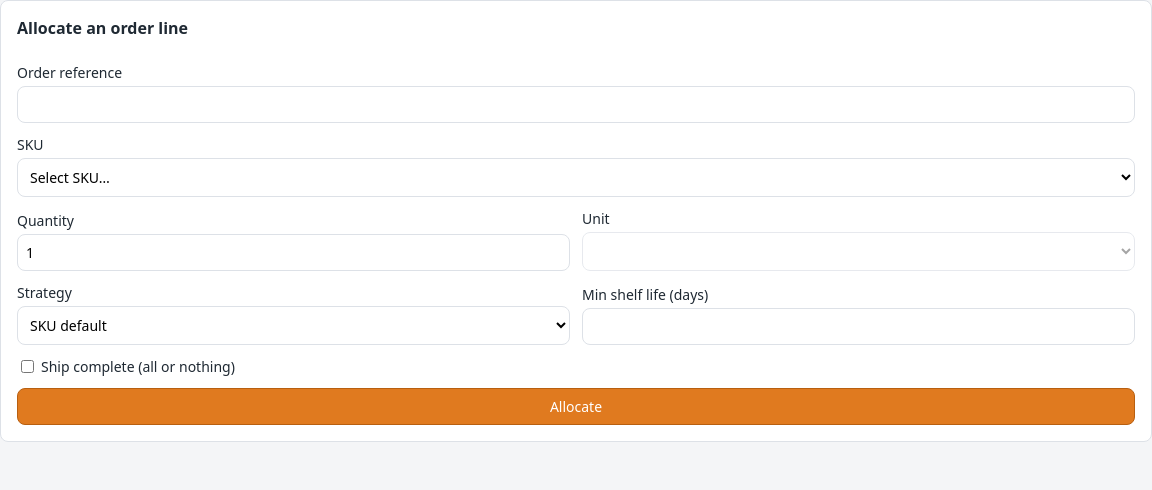
AllocationForm › shows shortfall errors
This screenshot has width=1152, height=490.
Type "SO-2" into the field labelled "Order reference".
click(576, 104); type("SO-2")  # box [17,86,1135,123]
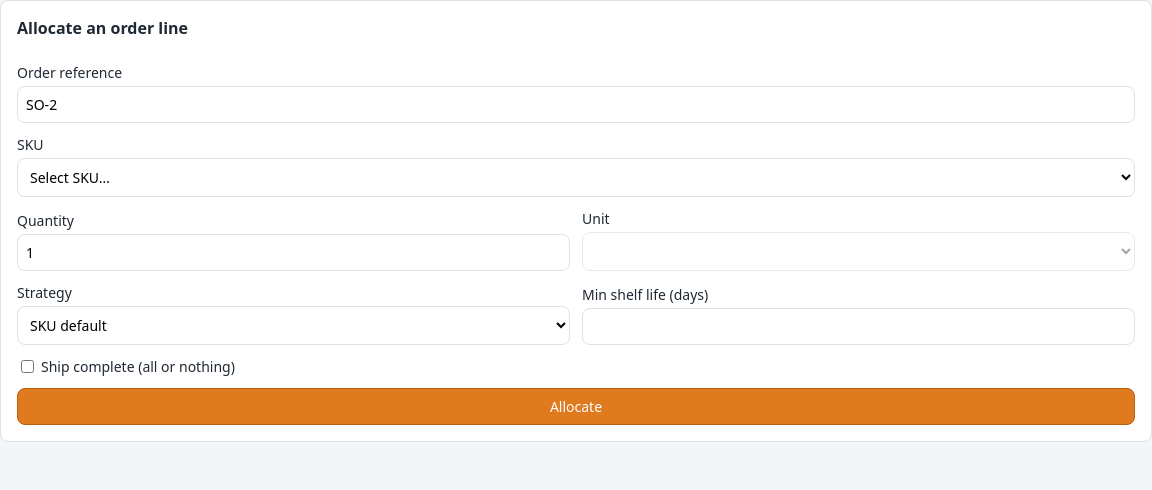
Select "MILK-UHT-1L (FEFO)" in the dropdown labelled "SKU" at (576, 178), box [17,158,1135,197]
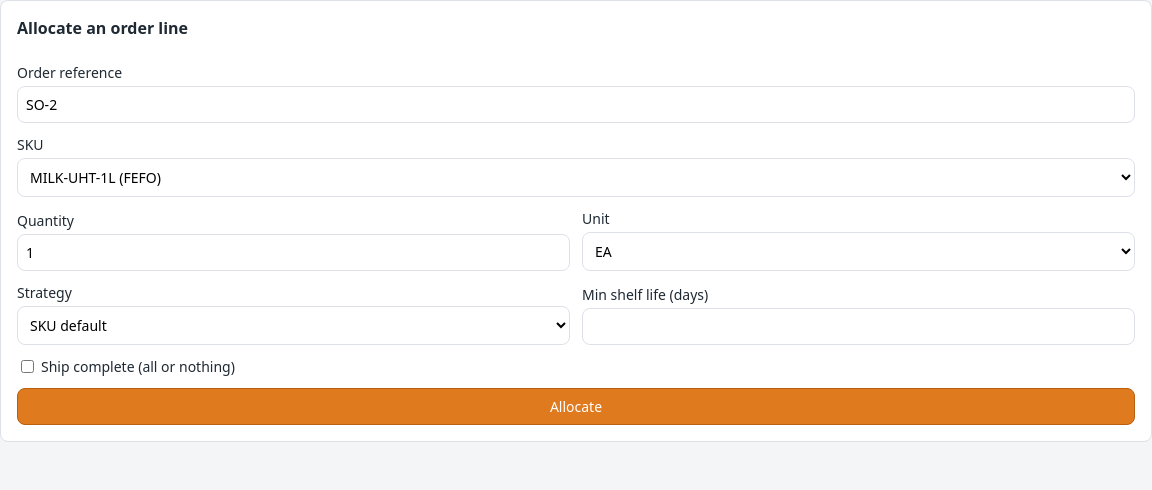
Click the button "Allocate".
click(576, 406)  # box [17,388,1135,425]
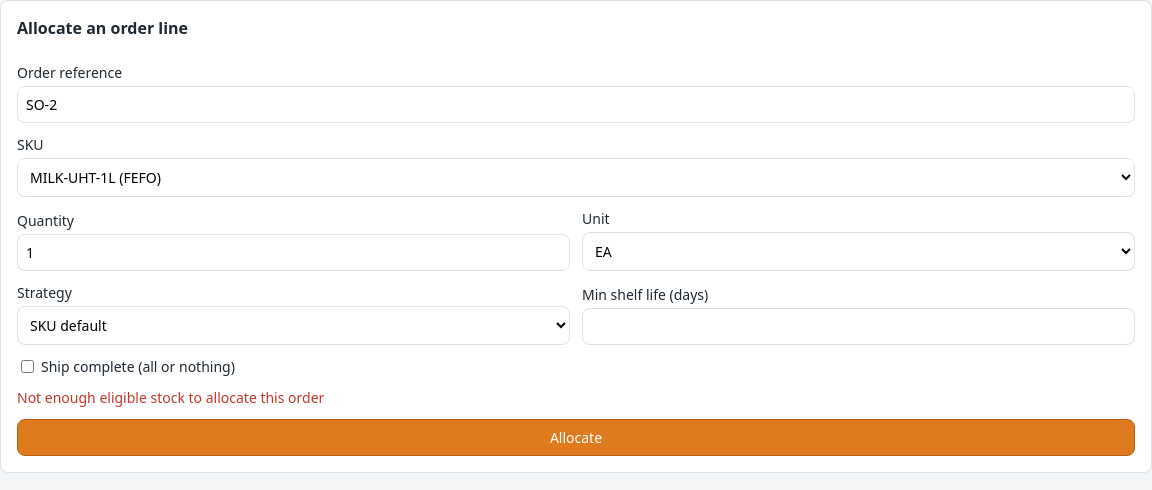
Expected: the message shows "Not enough eligible stock", [17,388,324,407]
